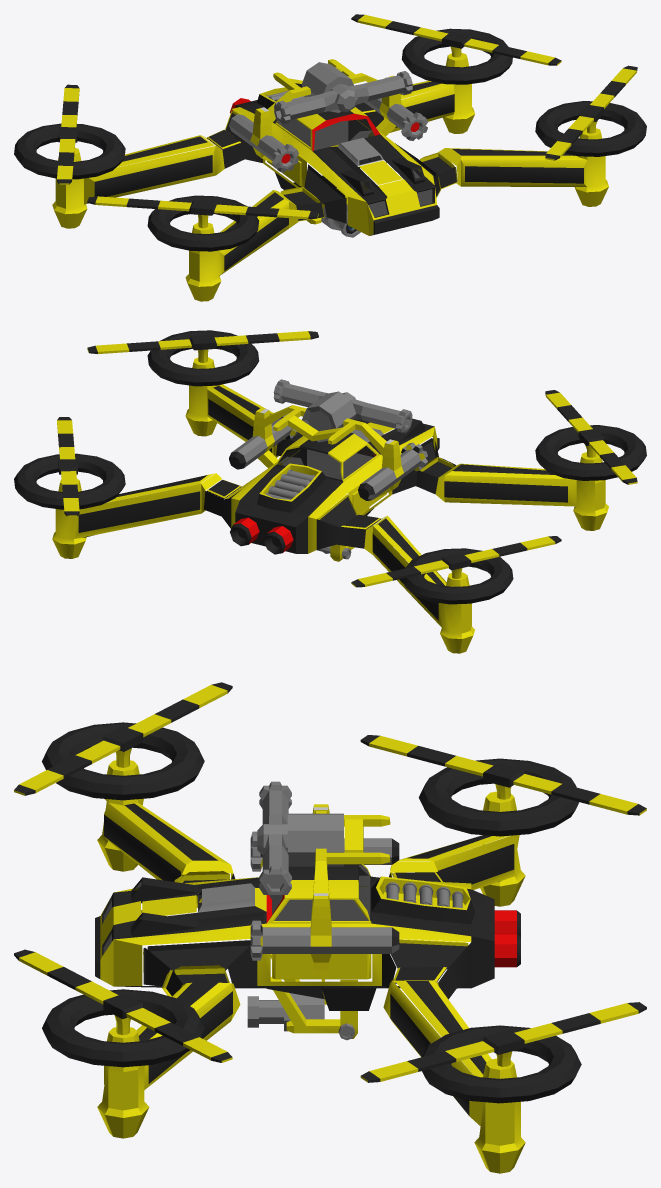
Rendered from drone_custom.glb.
The picture shows the model from 3 angles, top to bottom: view 1: azimuth 30°, elevation 25°; view 2: azimuth 150°, elevation 25°; view 3: azimuth 270°, elevation 25°; orthographic projection. The views are drawn at different scales.
Parts seen in each view (by area): view 1: drone_costum_Cube; view 2: drone_costum_Cube; view 3: drone_costum_Cube.
Part boxes in pixels (x1=…): drone_costum_Cube: x1=14, y1=14, x2=646, y2=301; drone_costum_Cube: x1=14, y1=330, x2=646, y2=653; drone_costum_Cube: x1=14, y1=682, x2=646, y2=1173.
Bounding box in the file's own units: 12.4 × 3.35 × 8.76.
Materials: 7 (2 with a texture image).
